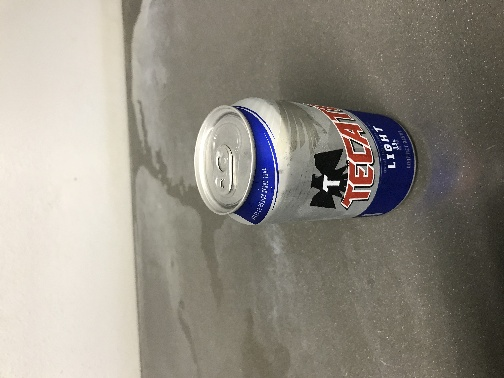TLL: (139, 69, 305, 164)
